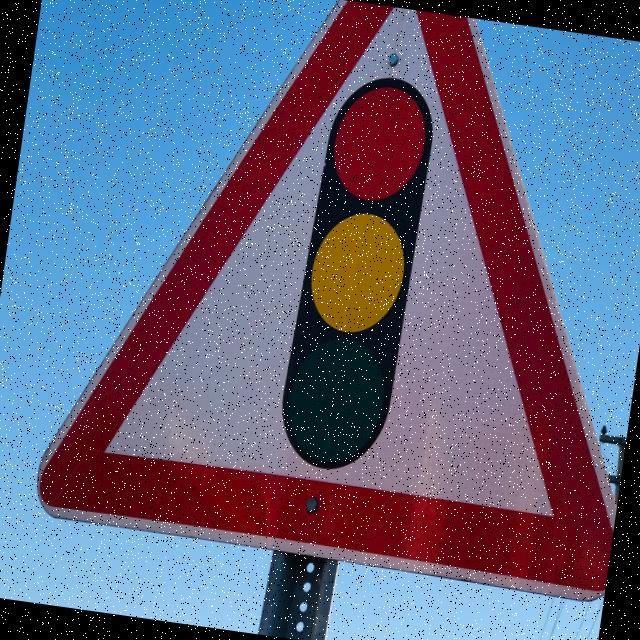light_traffic: (28, 0, 640, 608)
